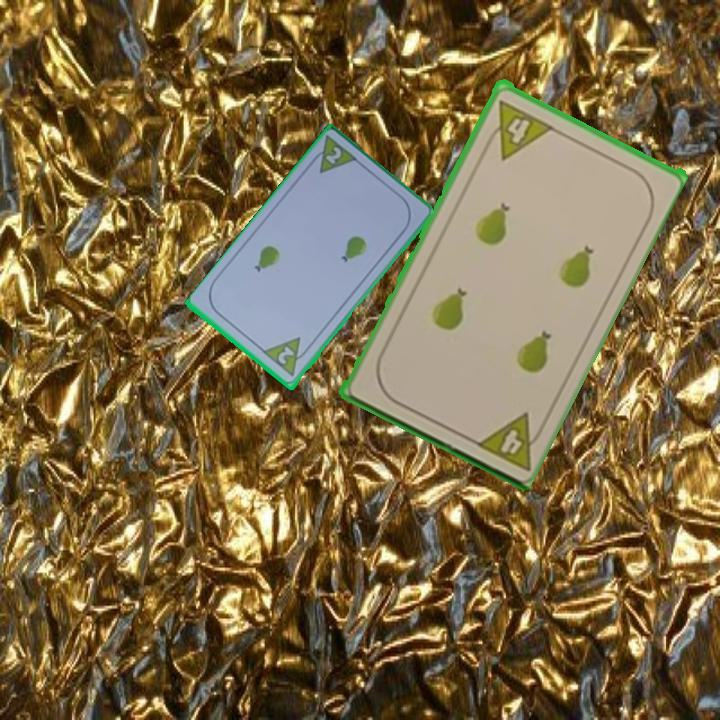2p: (260, 334, 314, 380), (305, 133, 361, 177)
4p: (470, 408, 550, 474), (480, 96, 555, 162)
